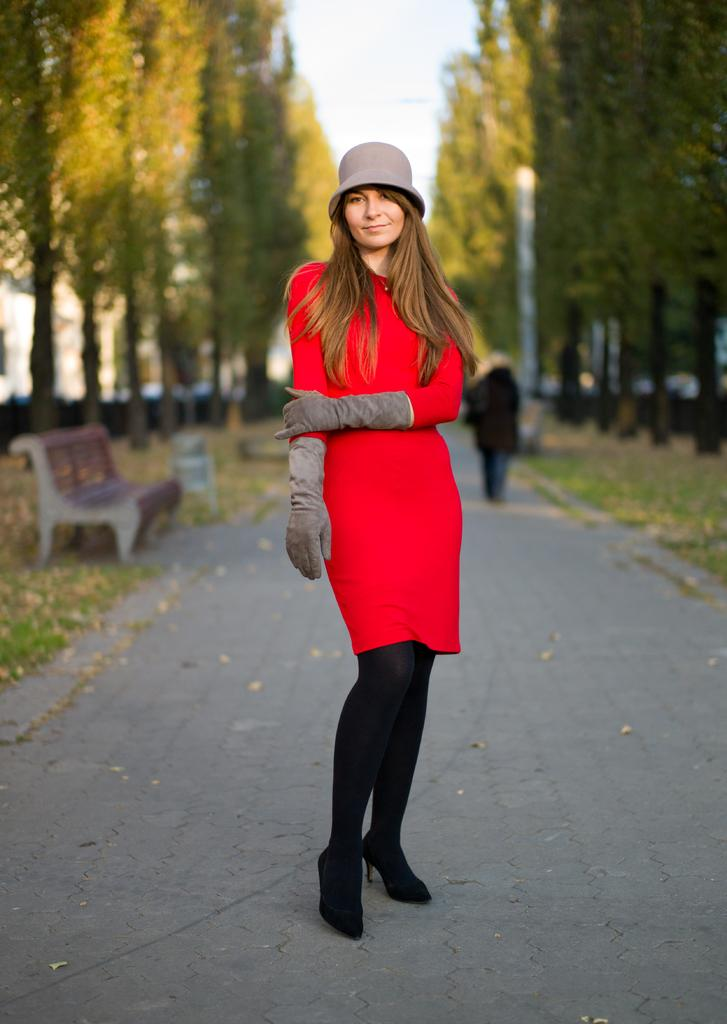Hat: (322, 139, 427, 227)
